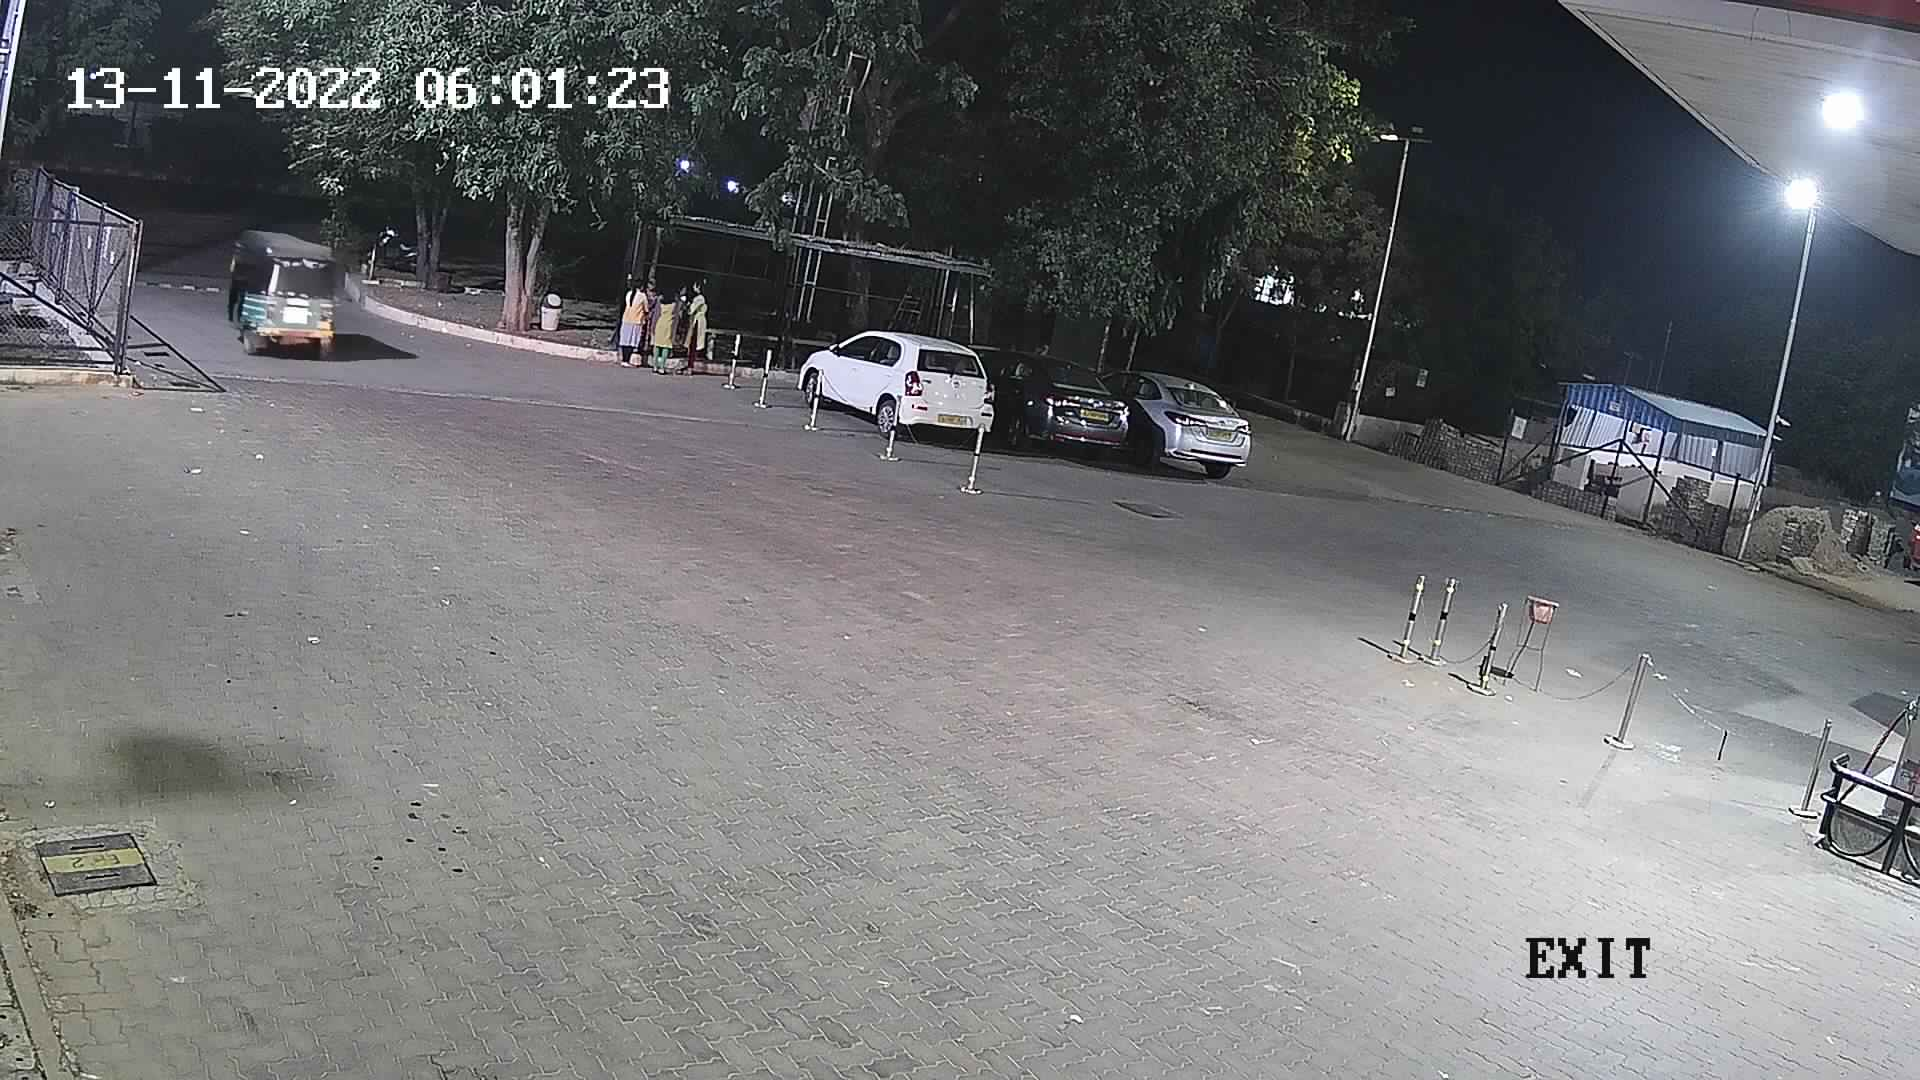Auto: (216, 219, 355, 371)
Bike: (353, 214, 418, 280)
Car: (789, 326, 1000, 455), (971, 334, 1138, 469), (1093, 353, 1261, 485)
